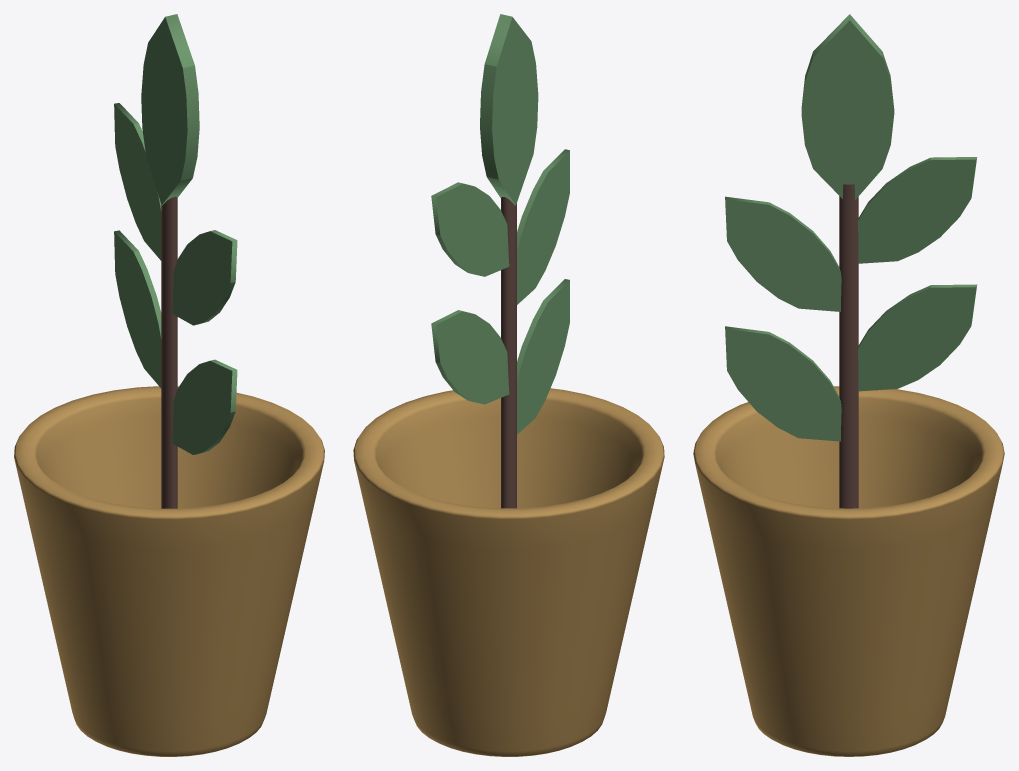
The model's file is Plant2.fbx.
3 views of the same model, side by side, from view 1: azimuth 30°, elevation 25°; view 2: azimuth 150°, elevation 25°; view 3: azimuth 270°, elevation 25° (orthographic).
Visible parts, largest first — view 1: pCylinder1, pCube6; view 2: pCylinder1, pCube6; view 3: pCylinder1, pCube6.
Part boxes in pixels (left/top/right/bottom): pCylinder1: left=14, top=386, right=324, bottom=756; pCube6: left=114, top=14, right=237, bottom=508; pCylinder1: left=353, top=388, right=664, bottom=756; pCube6: left=431, top=14, right=569, bottom=508; pCylinder1: left=693, top=386, right=1004, bottom=756; pCube6: left=725, top=14, right=977, bottom=508.
Bounding box in the file's own units: 1.96 × 4.89 × 1.96.
